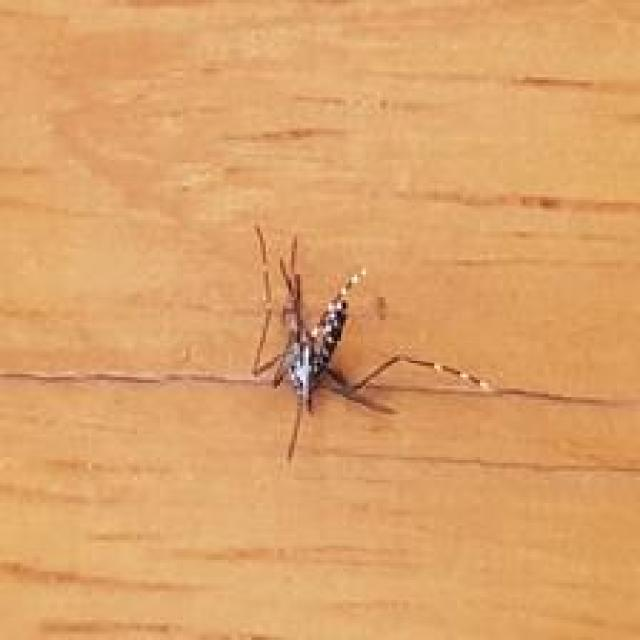Aedes albopictus: (247, 224, 496, 462)
